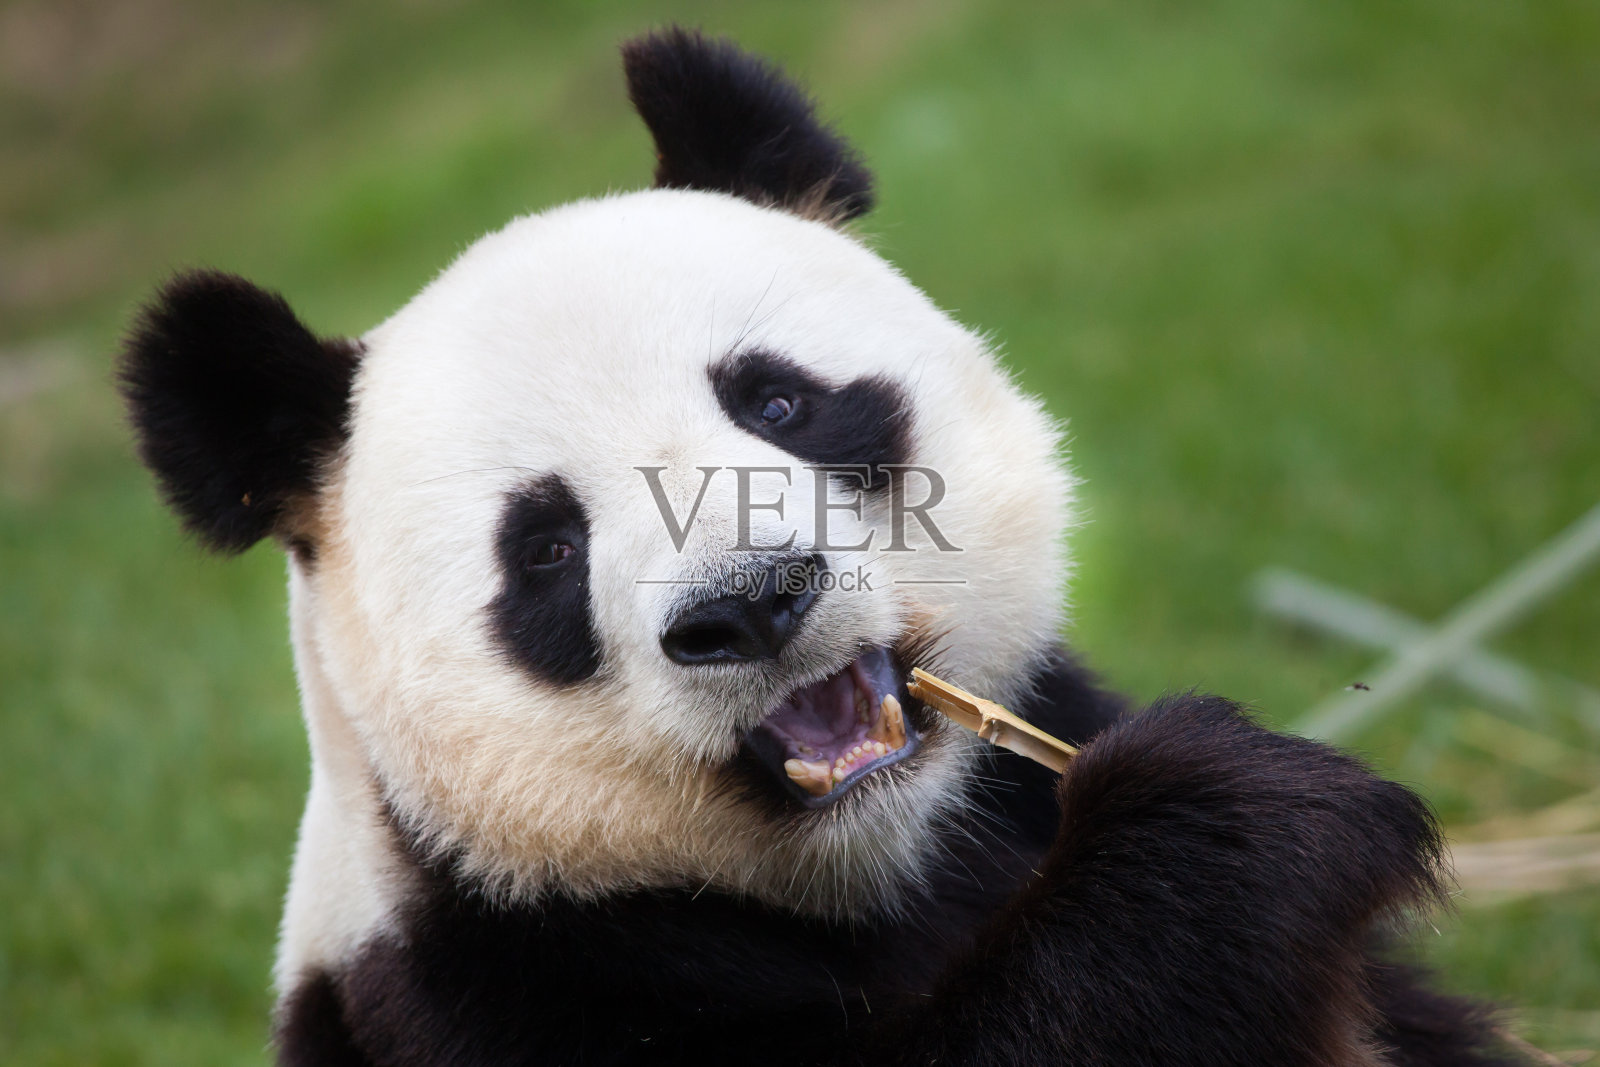panda: (74, 19, 1482, 1046)
